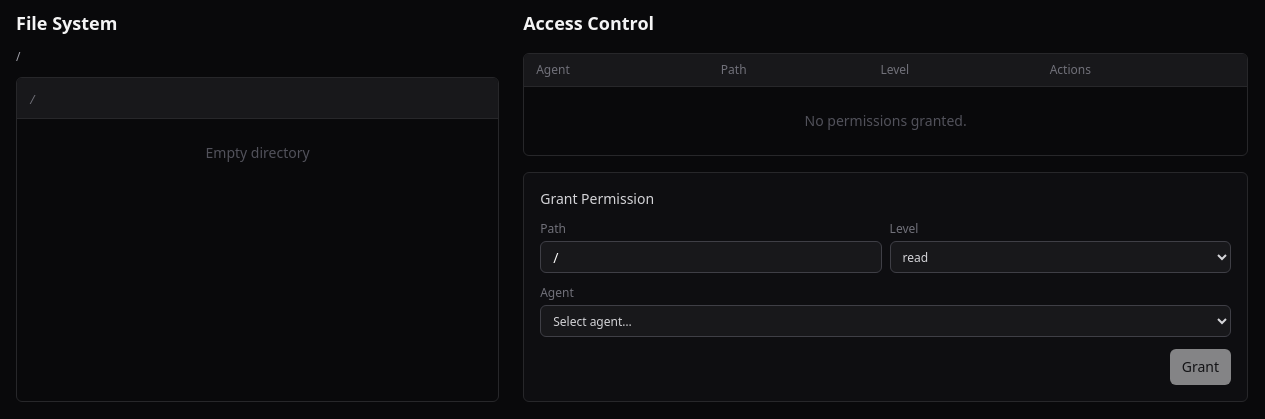
FSBrowser grant form › Grant button enabled when both path and agent filled
Check: the heading "Grant Permission" is shown, box [540,189,654,208]
Select "Alice (engineer)" in the 2nd dropdown: (886, 321) [540,305,1231,337]
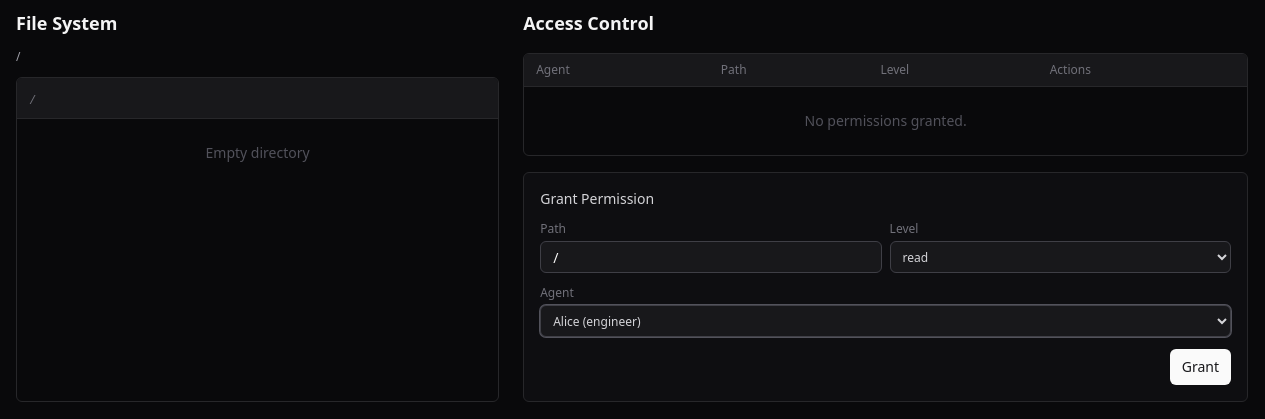
Check: the button "Grant" is enabled, box [1170,349,1231,385]
